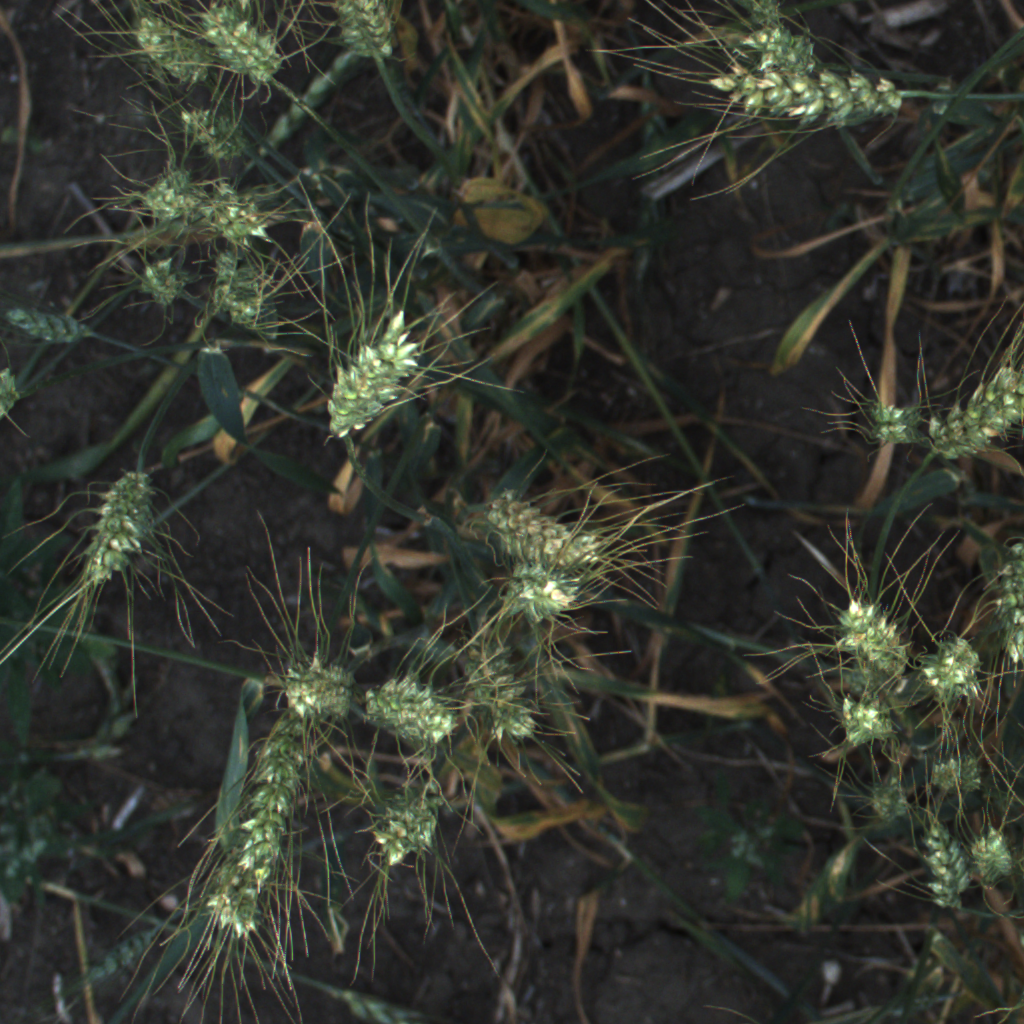wheat_head: (181, 709, 317, 950), (309, 303, 434, 466), (702, 54, 910, 142), (67, 431, 165, 600), (473, 485, 620, 576), (923, 366, 1024, 470), (463, 635, 552, 752), (461, 546, 586, 628), (357, 778, 459, 877), (341, 675, 464, 757), (911, 806, 981, 934), (193, 0, 291, 90), (266, 641, 365, 729), (829, 587, 915, 687), (114, 12, 217, 93), (916, 609, 986, 721), (976, 512, 1024, 673), (192, 177, 284, 258), (207, 245, 282, 334), (0, 293, 104, 356), (854, 385, 940, 459), (848, 761, 921, 847), (727, 22, 833, 79), (167, 104, 264, 165), (319, 0, 408, 66), (129, 157, 208, 231), (124, 245, 194, 324), (821, 690, 900, 754), (922, 745, 999, 809), (969, 805, 1011, 904), (0, 365, 42, 432)
